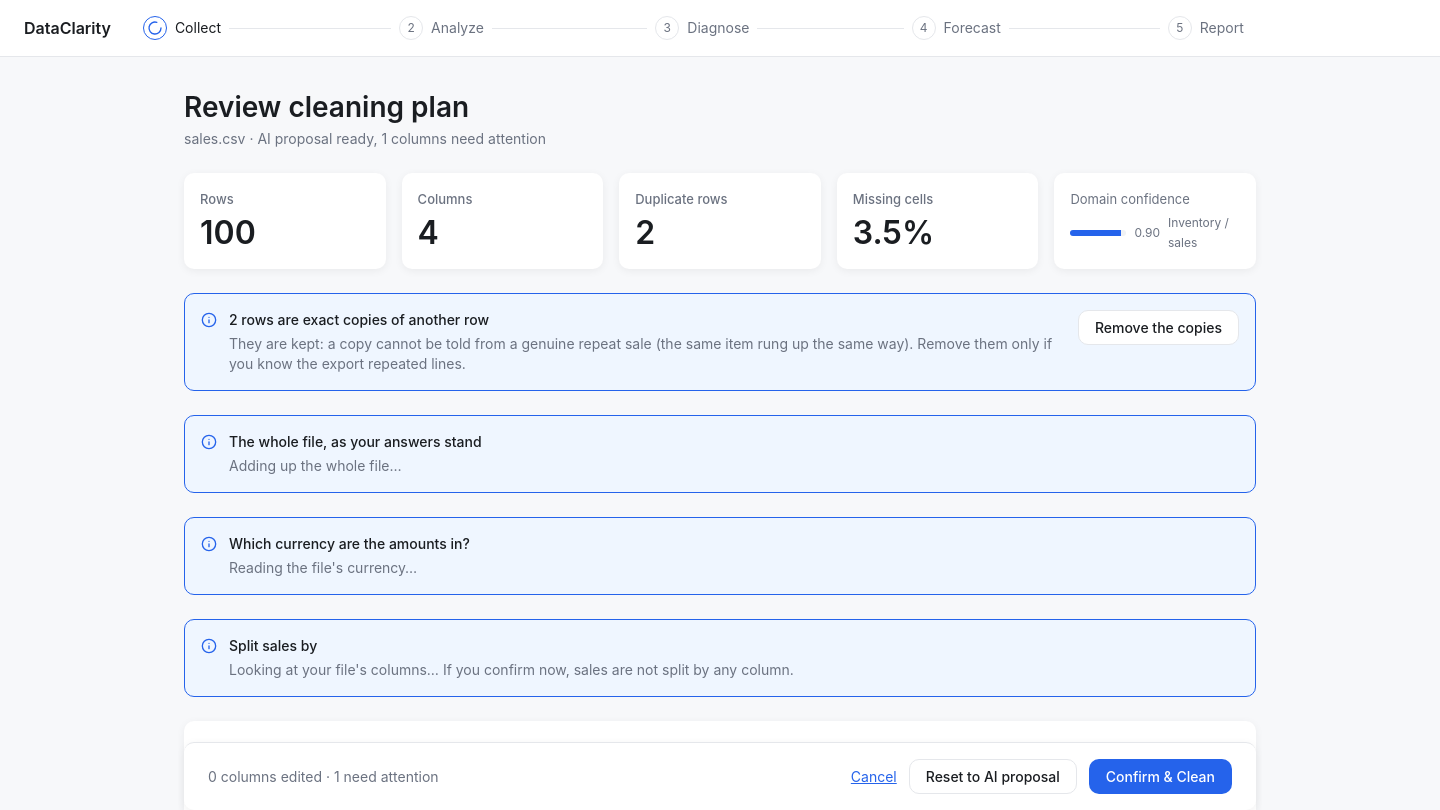
ReviewPage: error-state rendering › shows the fixed copy for an execute failure and lets the user go back to review
The width and height of the screenshot is (1440, 810).
Click the button "Confirm & Clean" at (1160, 776), box x1=1089 y1=759 x2=1232 y2=794
(page scrolled)
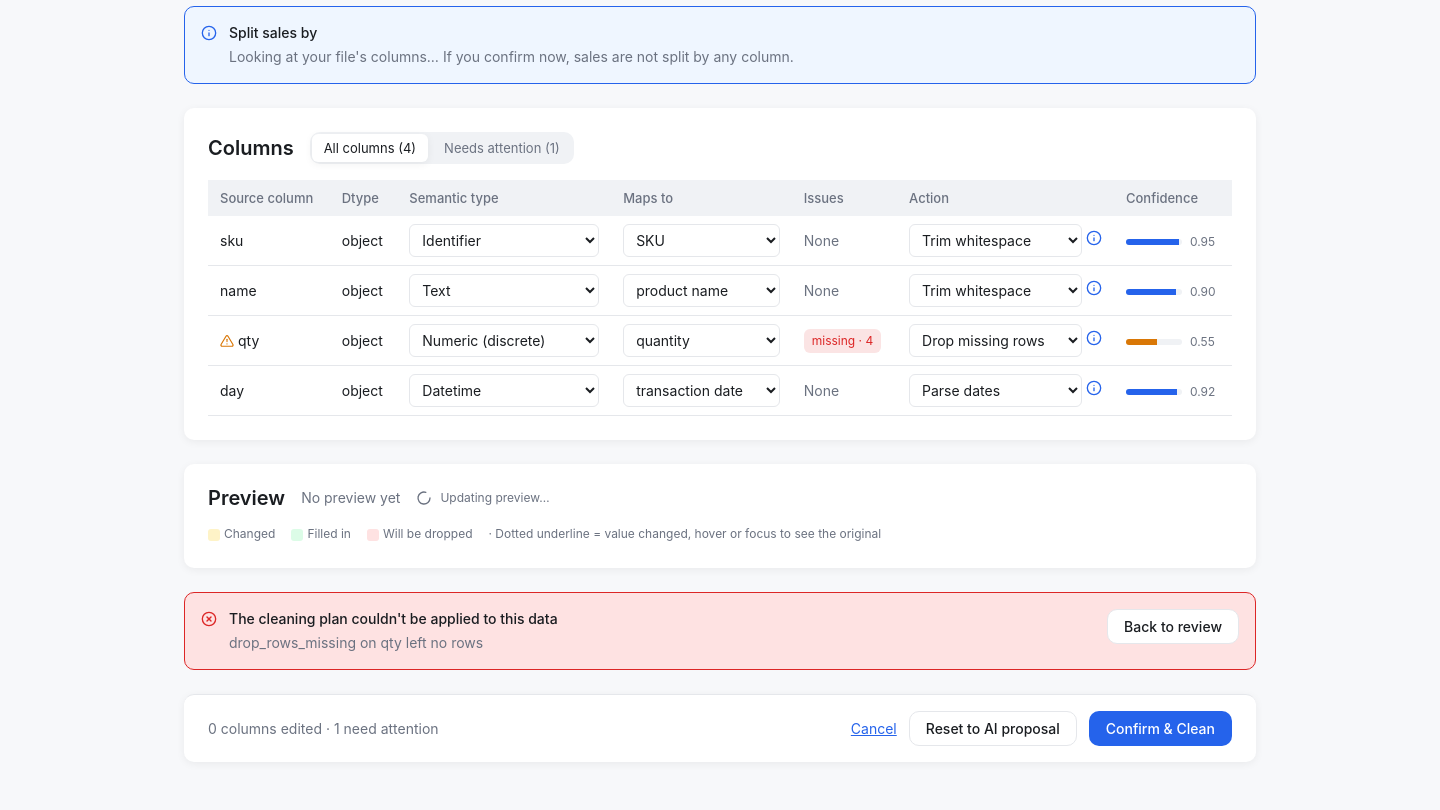
Now the text "The cleaning plan couldn't be applied to this data" is shown, box x1=229 y1=610 x2=558 y2=627
Now the text "drop_rows_missing on qty left no rows" is shown, box x1=229 y1=634 x2=483 y2=651
Click the button "Back to review" at (1173, 626), box x1=1107 y1=609 x2=1239 y2=644
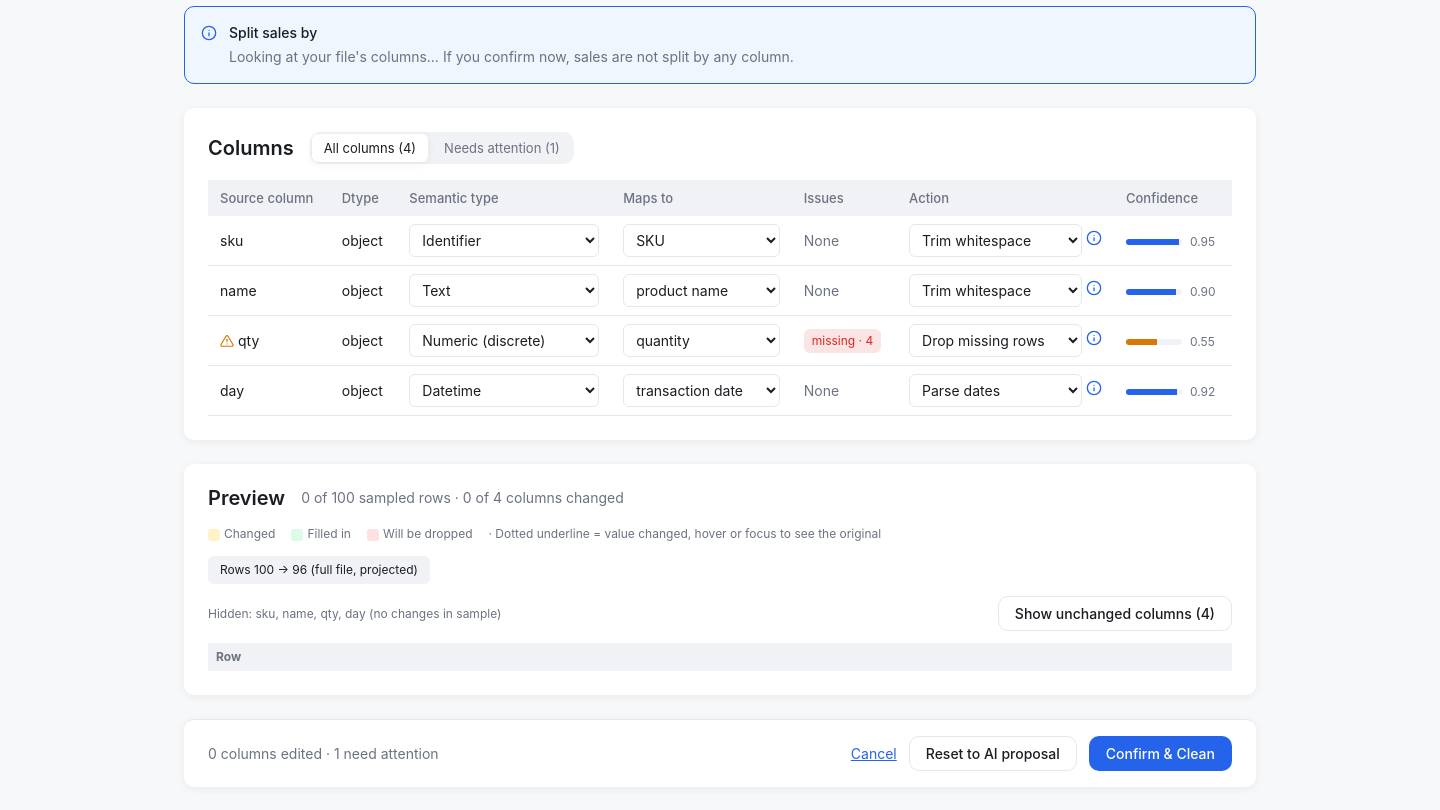
Now the text "drop_rows_missing on qty left no rows" is gone
